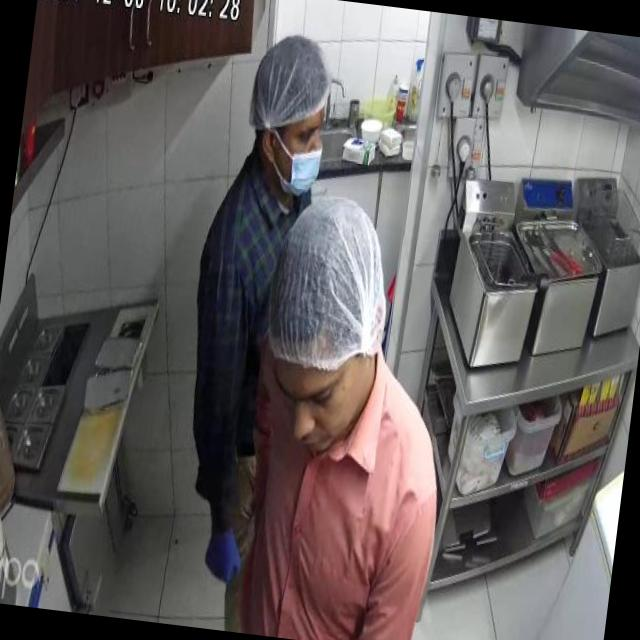hairnet: (266, 200, 398, 366), (250, 34, 332, 124)
